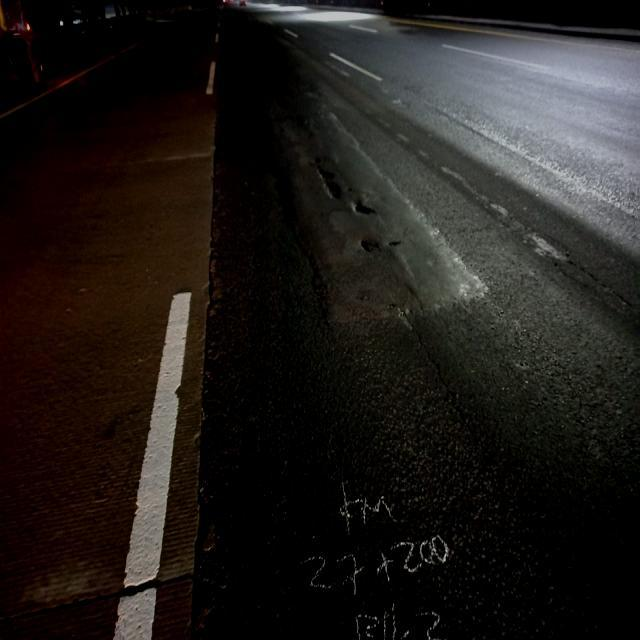Buraco: (304, 153, 345, 203), (280, 110, 325, 141), (294, 75, 326, 100), (351, 197, 379, 217), (356, 236, 384, 255), (386, 239, 404, 248), (345, 186, 355, 193)
